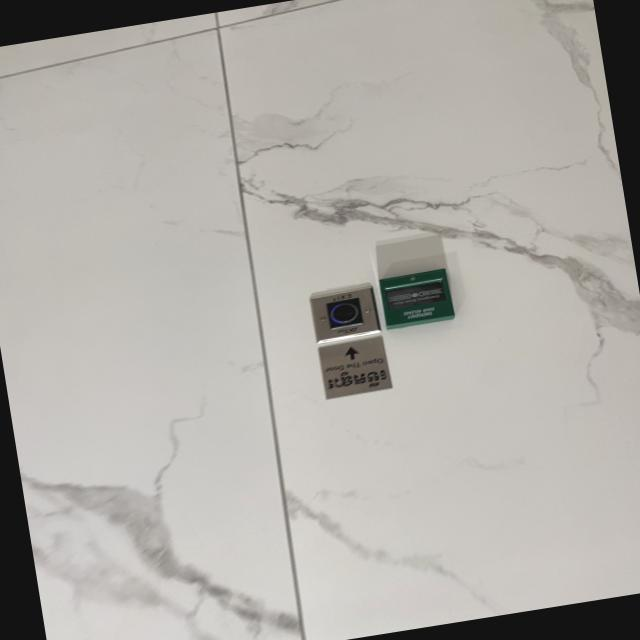Yolov11kh: (324, 365, 392, 397)
